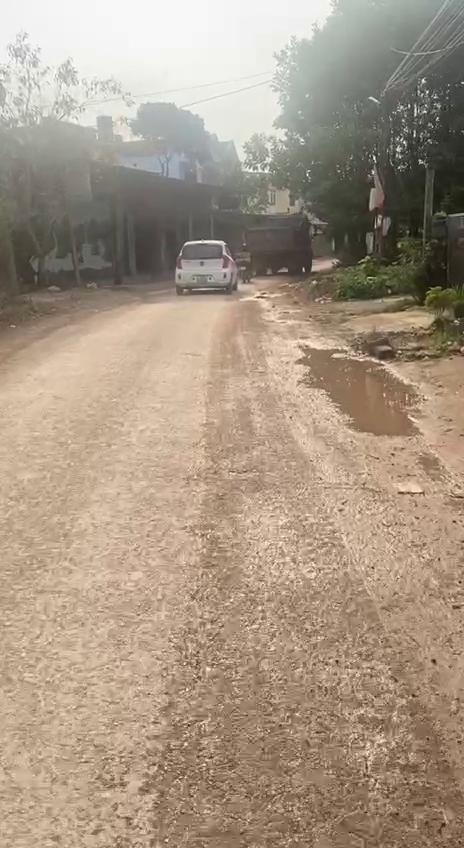pothole: (288, 342, 432, 441)
